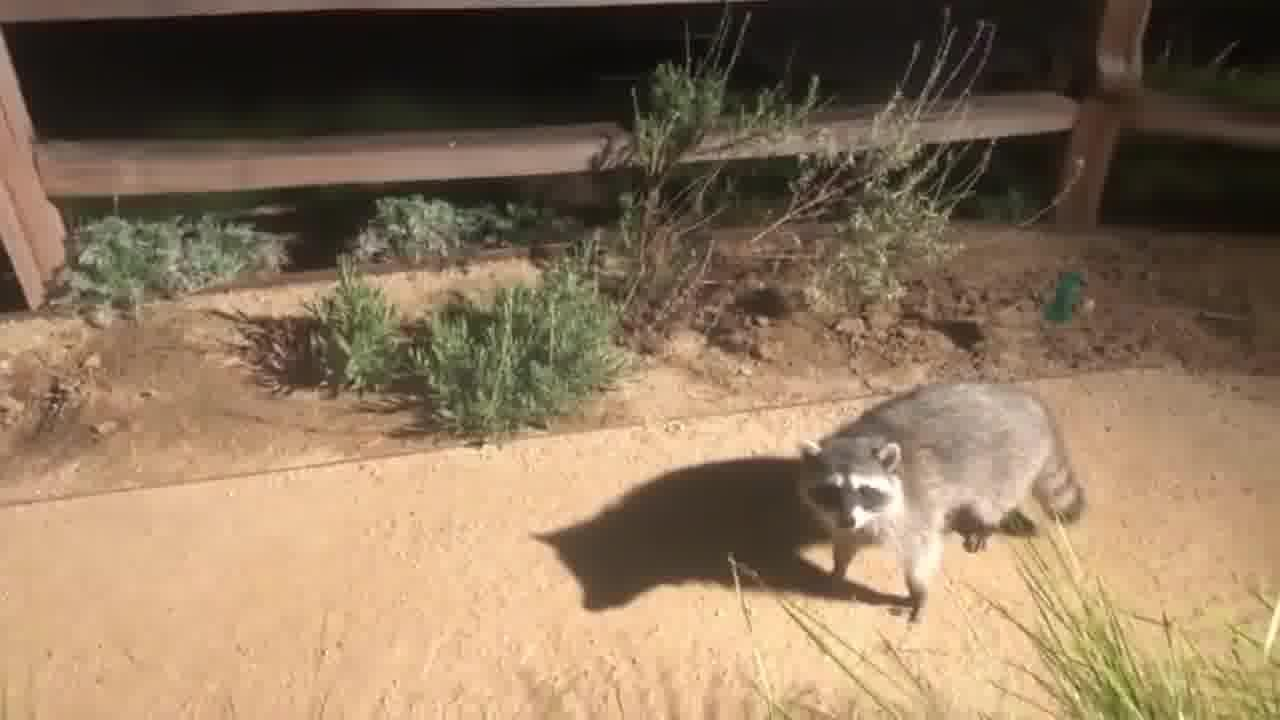raccoon: (796, 384, 1087, 620)
